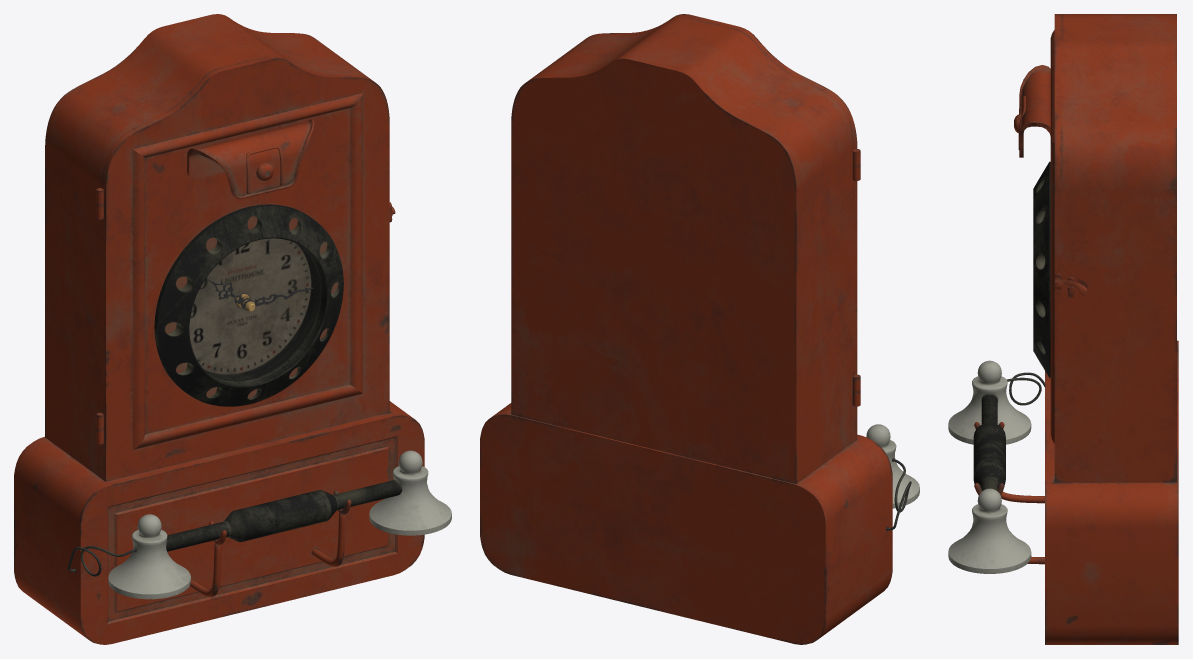
Rendered from vintage_telephone_wall_clock_1k.glb.
The picture shows the model from 3 angles, left to right: view 1: azimuth 30°, elevation 25°; view 2: azimuth 150°, elevation 25°; view 3: azimuth 270°, elevation 25°; orthographic projection.
Visible parts, largest first — view 1: vintage_telephone_wall_clock; view 2: vintage_telephone_wall_clock; view 3: vintage_telephone_wall_clock.
Boxes of the visible parts, x1,y1,x2,y2 form: vintage_telephone_wall_clock: (14,14,451,644); vintage_telephone_wall_clock: (480,14,919,644); vintage_telephone_wall_clock: (948,14,1178,644).
Bounding box in the file's own units: 0.3428 × 0.5012 × 0.1926.
Materials: 2 (2 with a texture image).
